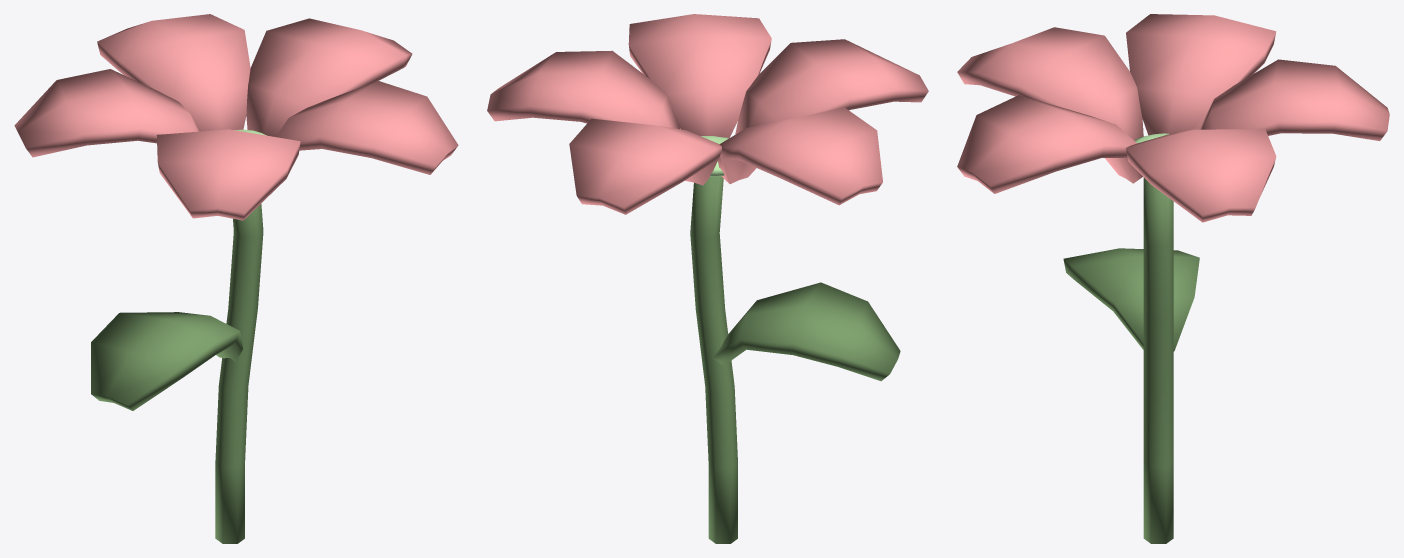
File: fragariaflower_4.fbx
3 views of the same model, side by side, from view 1: azimuth 30°, elevation 25°; view 2: azimuth 150°, elevation 25°; view 3: azimuth 270°, elevation 25° (orthographic).
Parts seen in each view (by area): view 1: fragaria flower 4; view 2: fragaria flower 4; view 3: fragaria flower 4.
Part boxes in pixels (<box>): fragaria flower 4: <box>14,14,458,543</box>; fragaria flower 4: <box>487,14,928,543</box>; fragaria flower 4: <box>957,14,1389,543</box>.
Size of the model in its own units: 31.54 by 35.43 by 30.16.
